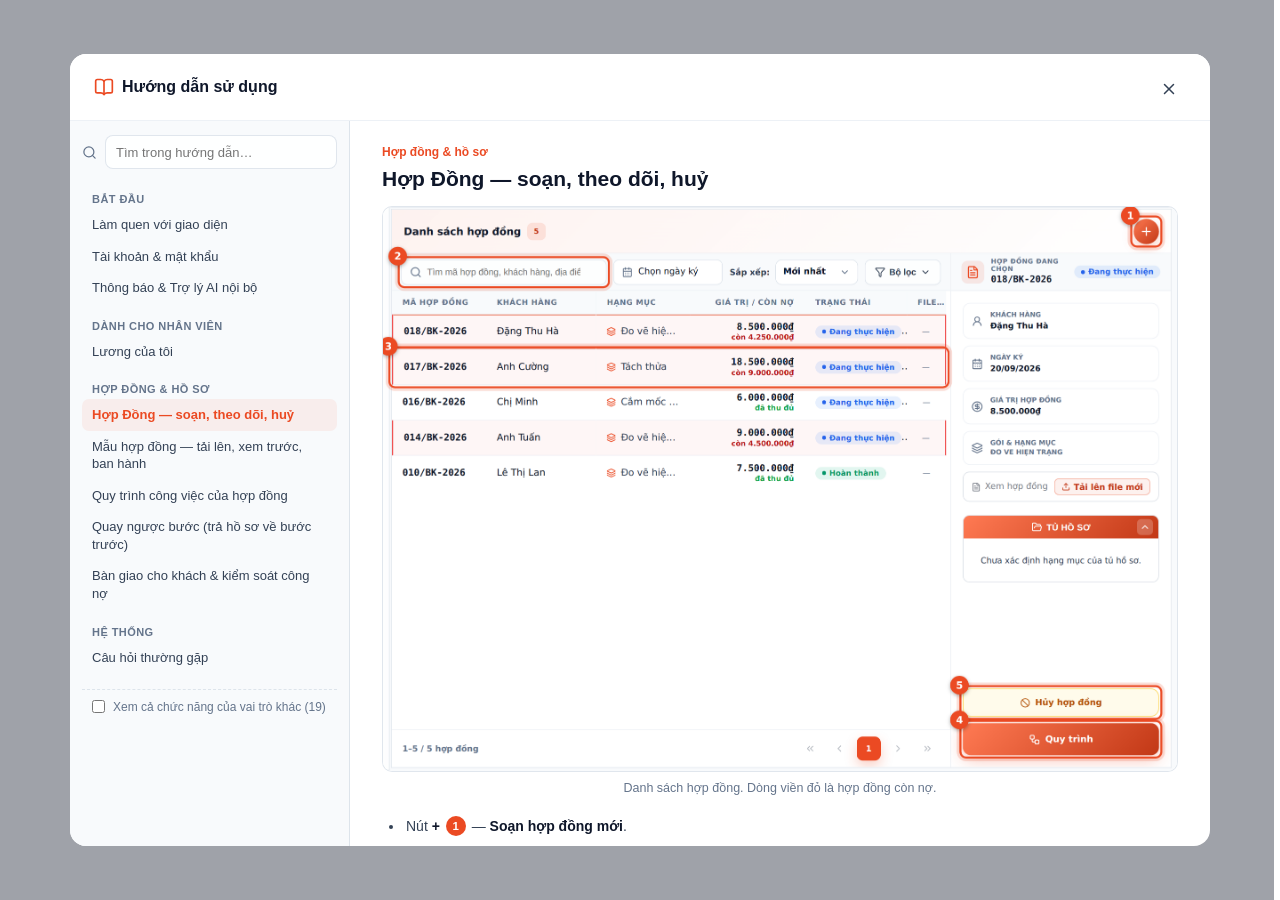
Scenario: HelpCenter › có hướng dẫn riêng cho quản lý mẫu hợp đồng
Type "mau hop dong" into the search field labelled "Tìm trong hướng dẫn" at (221, 152), box [105, 135, 337, 169]
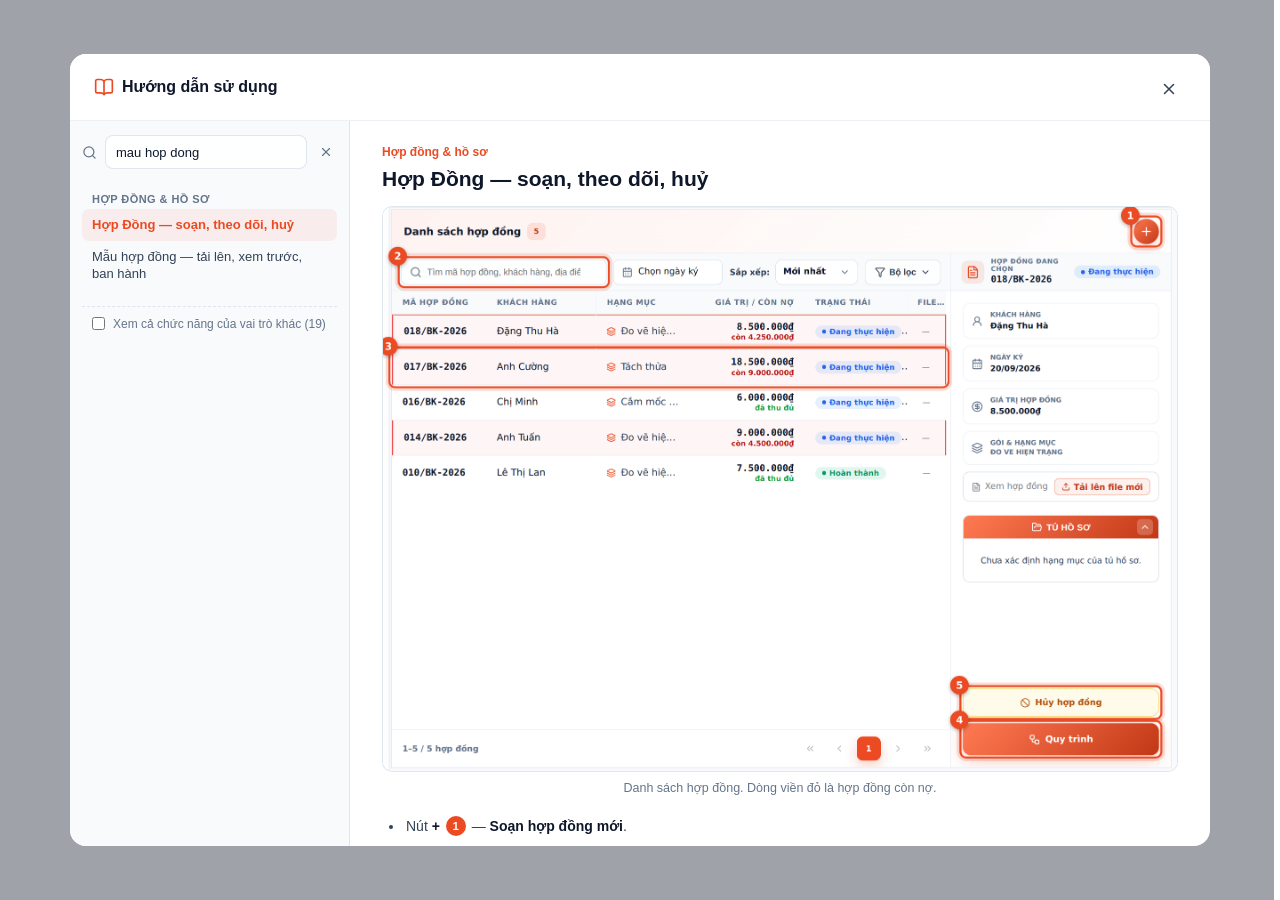
Click the button "Mẫu hợp đồng — tải lên, xem trước, ban hành" at (210, 265), box [82, 240, 337, 290]
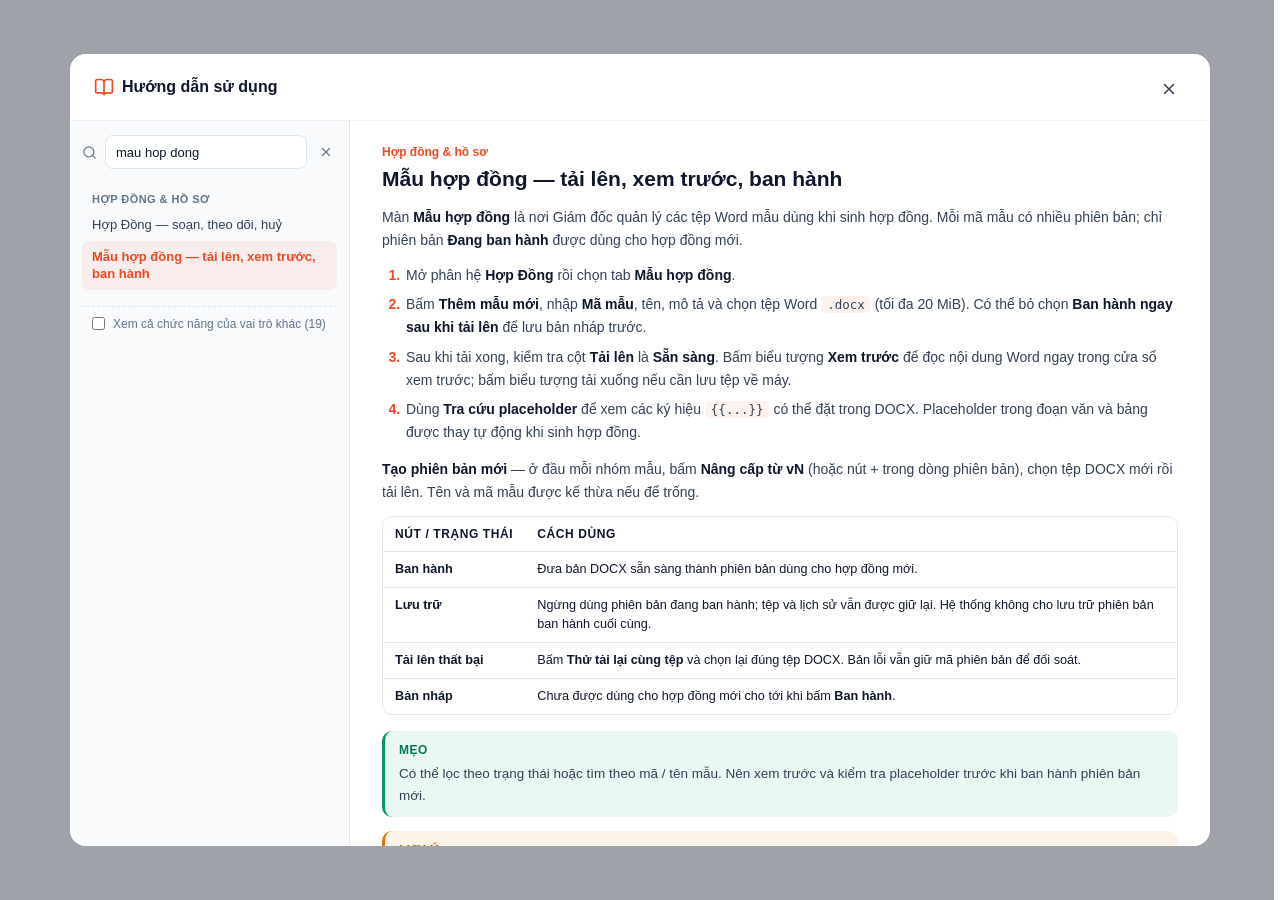
Now the heading "Mẫu hợp đồng — tải lên, xem trước, ban hành" is shown, box [382, 167, 842, 190]
Now the text "Xem trước" is shown, box [828, 349, 899, 365]
